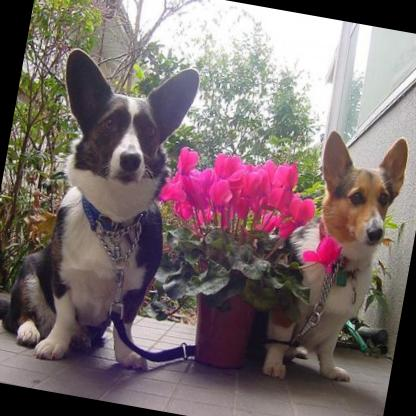Cardigan: (0, 42, 199, 379), (252, 115, 414, 393)
